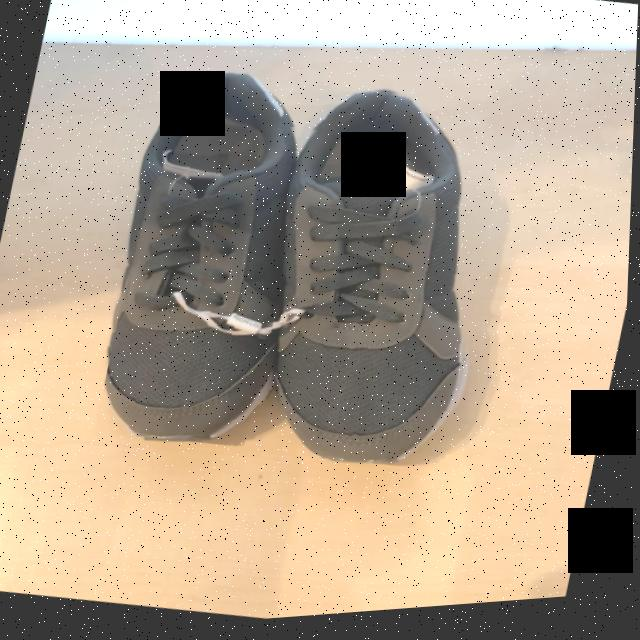shoe: (278, 97, 466, 469), (109, 118, 283, 445)
